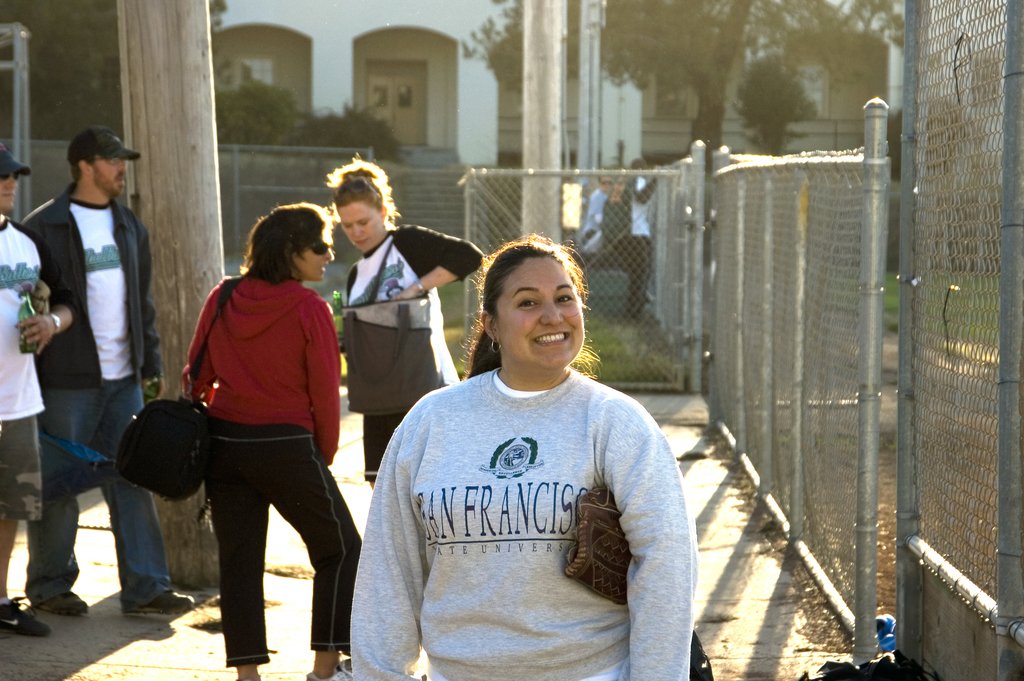Tree: (472, 0, 897, 149), (0, 0, 224, 146), (207, 62, 302, 155), (279, 103, 407, 169)
